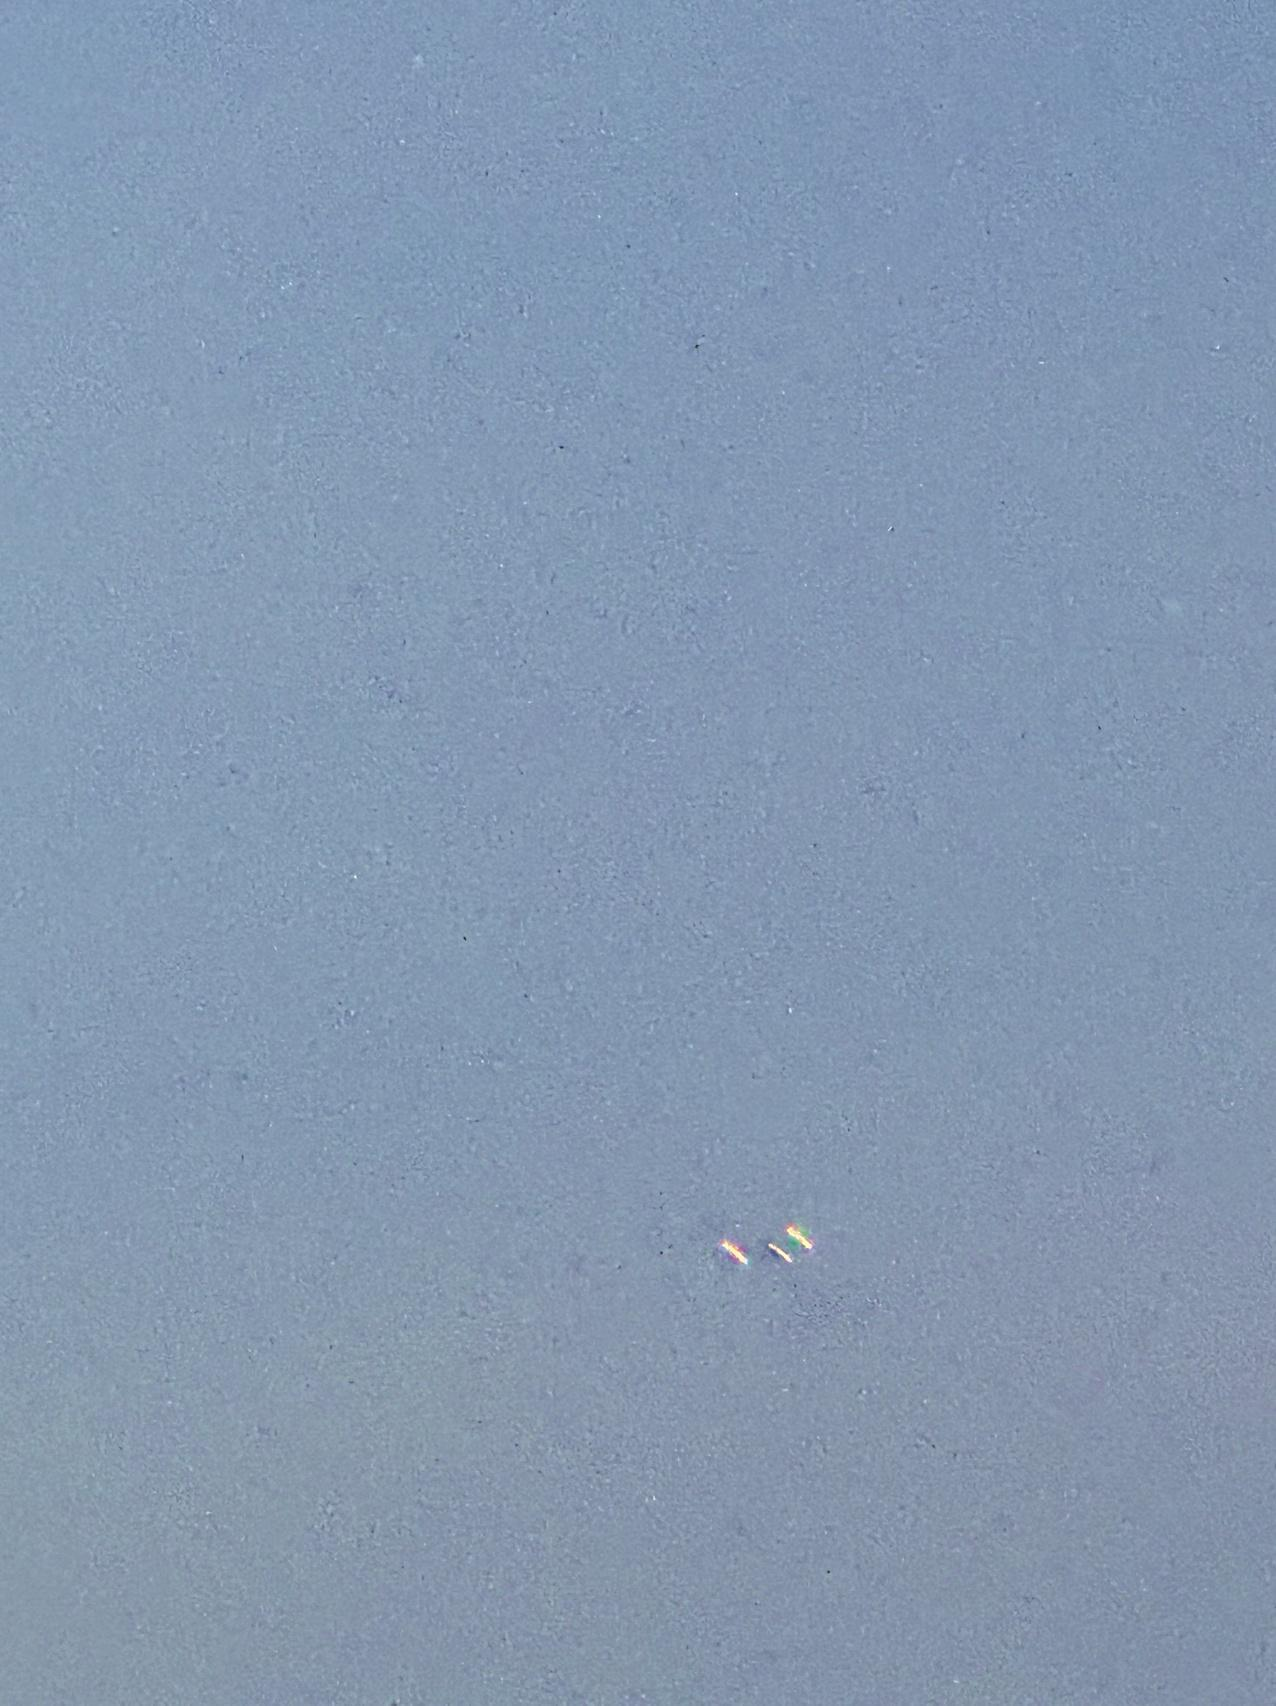Plane: (684, 1203, 846, 1285)
